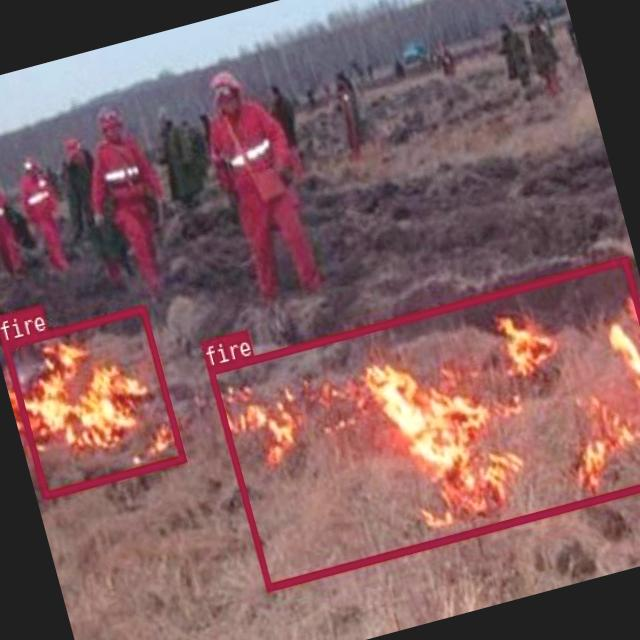fire: (206, 254, 640, 590), (0, 304, 185, 498)
